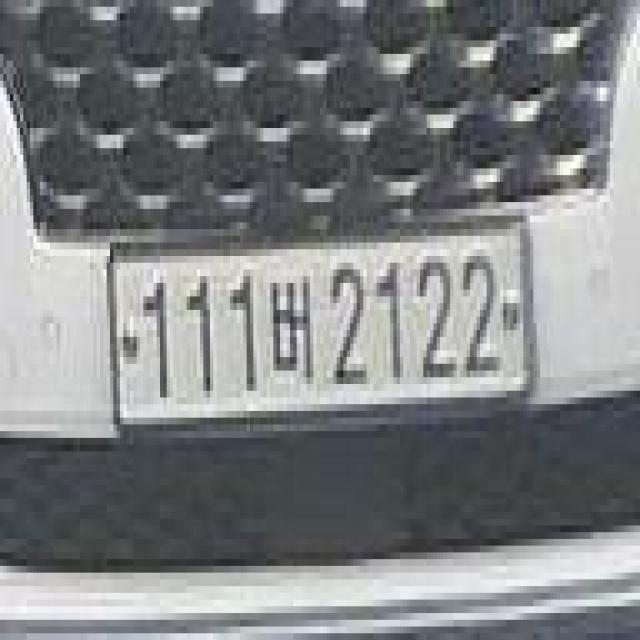illegal_plate: (102, 210, 530, 442)
